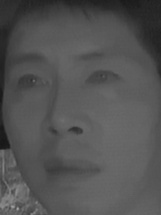eye: (84, 66, 122, 88), (15, 71, 49, 93)
mouth: (38, 155, 101, 187)
